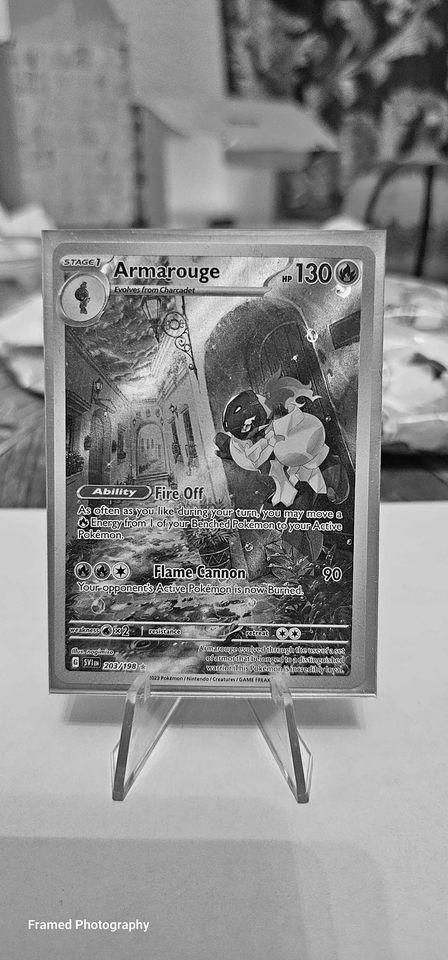card: (48, 240, 376, 689)
